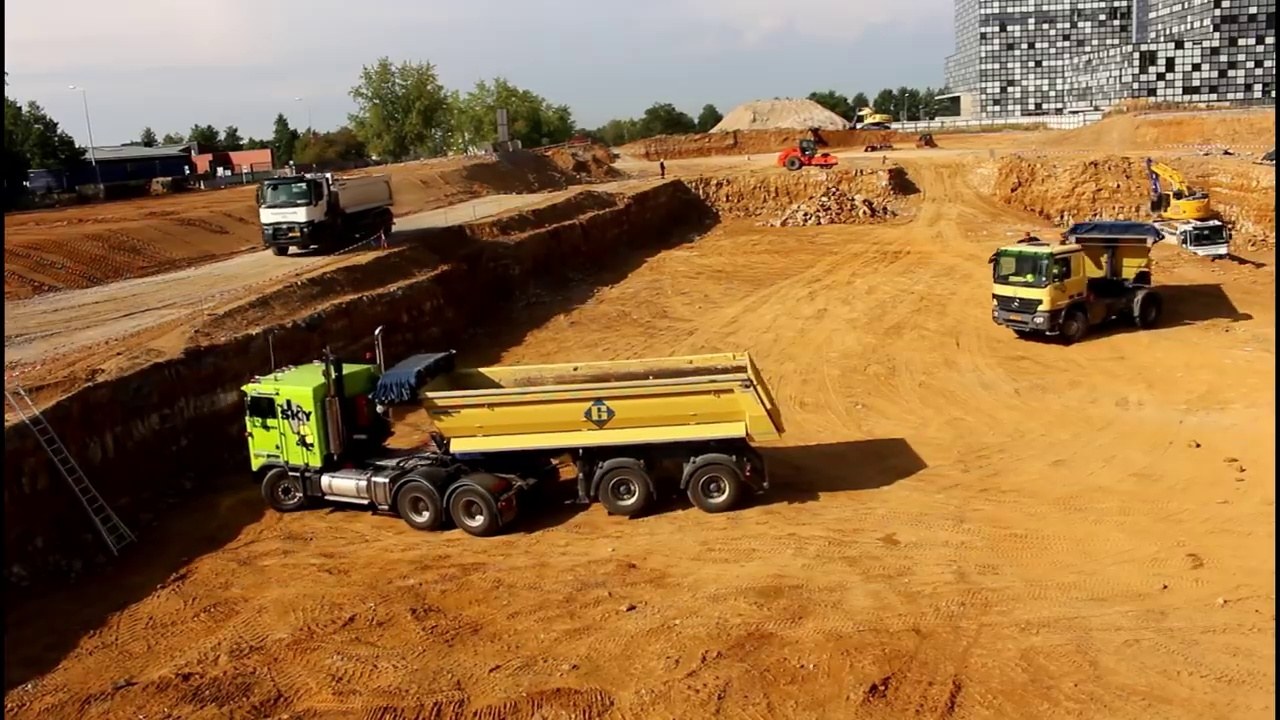compactor: (774, 138, 843, 172)
excavator: (1138, 154, 1226, 244), (846, 103, 896, 133)
truck: (236, 323, 788, 540), (988, 217, 1168, 348), (255, 169, 398, 259), (1147, 217, 1230, 272)
worker: (658, 152, 671, 182)
